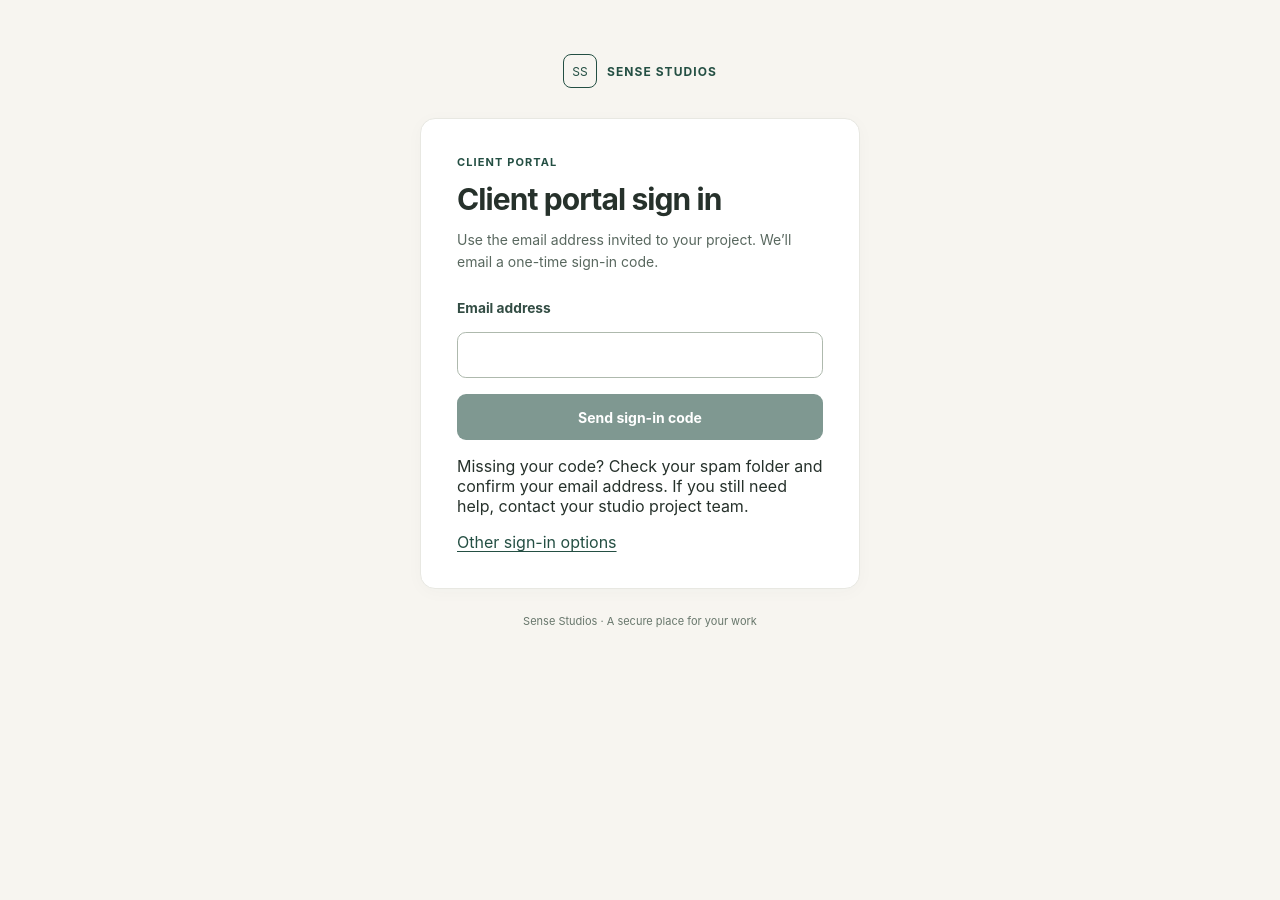
Test: client portal identity and security › requests a generic one-time code, verifies it, then restores the client session
Type "client@example.test" into the field labelled "Email address".
click(640, 355); type("client@example.test")  # box [457,332,823,378]
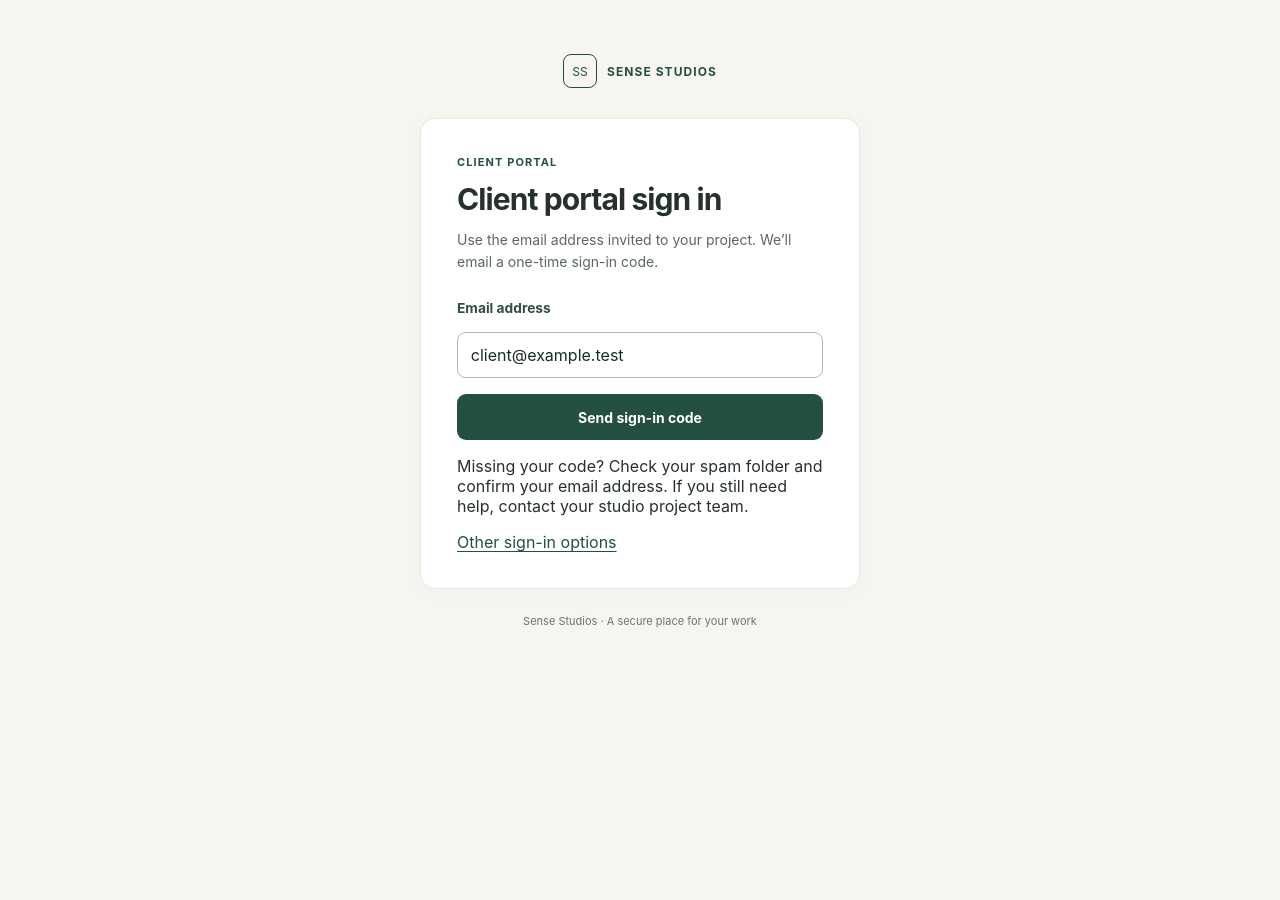
Click the button "Send sign-in code".
click(640, 417)  # box [457,394,823,440]
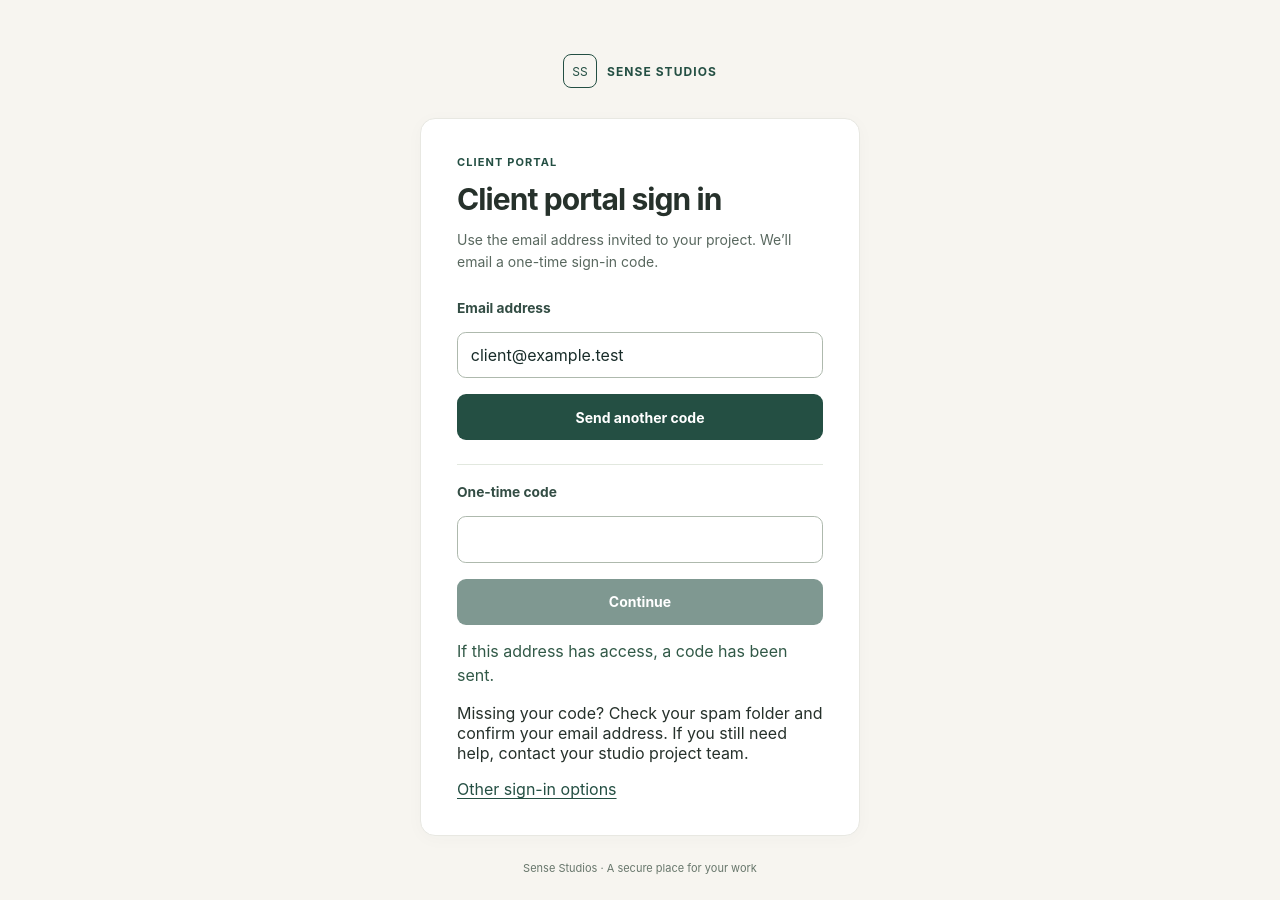
Expected: the message reads "If this address has access, a code has been sent.", [457,641,787,685]
Type "004219" into the field labelled "One-time code".
click(640, 540); type("004219")  # box [457,516,823,563]
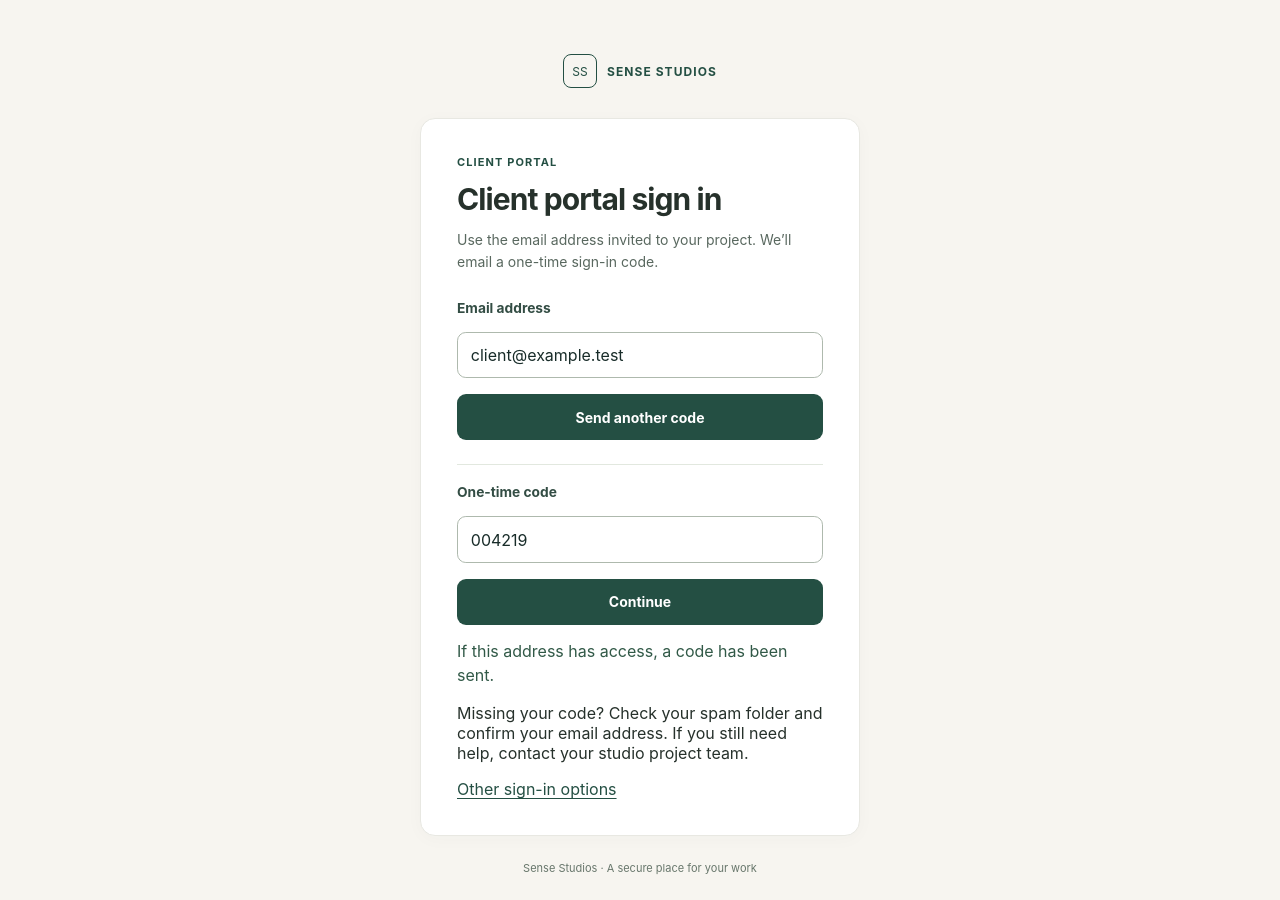
Click the button "Continue".
click(640, 602)  # box [457,579,823,625]
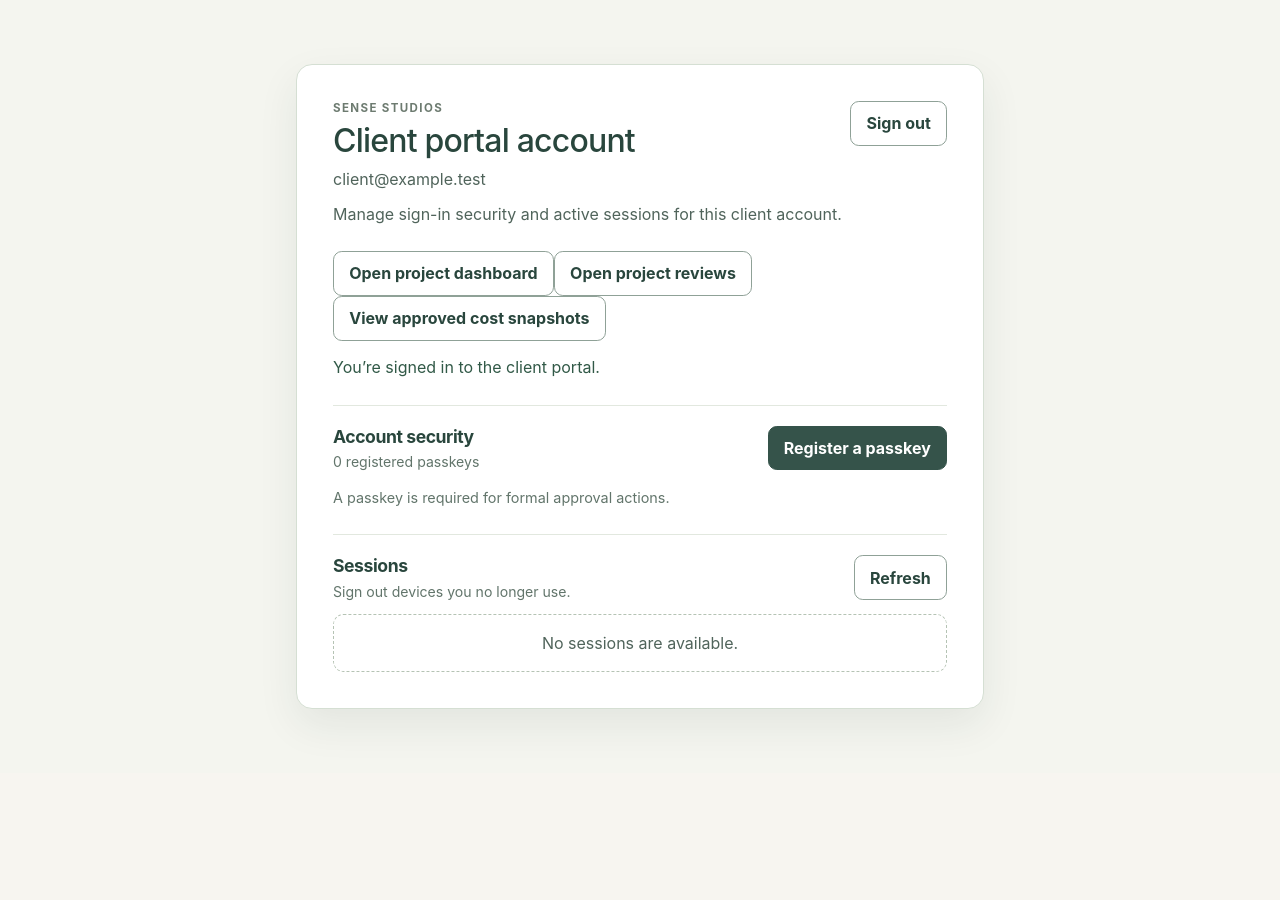
Expected: the heading "Client portal account" is shown, [333,122,635,161]
Expected: the text "client@example.test" is shown, [333,169,486,189]
